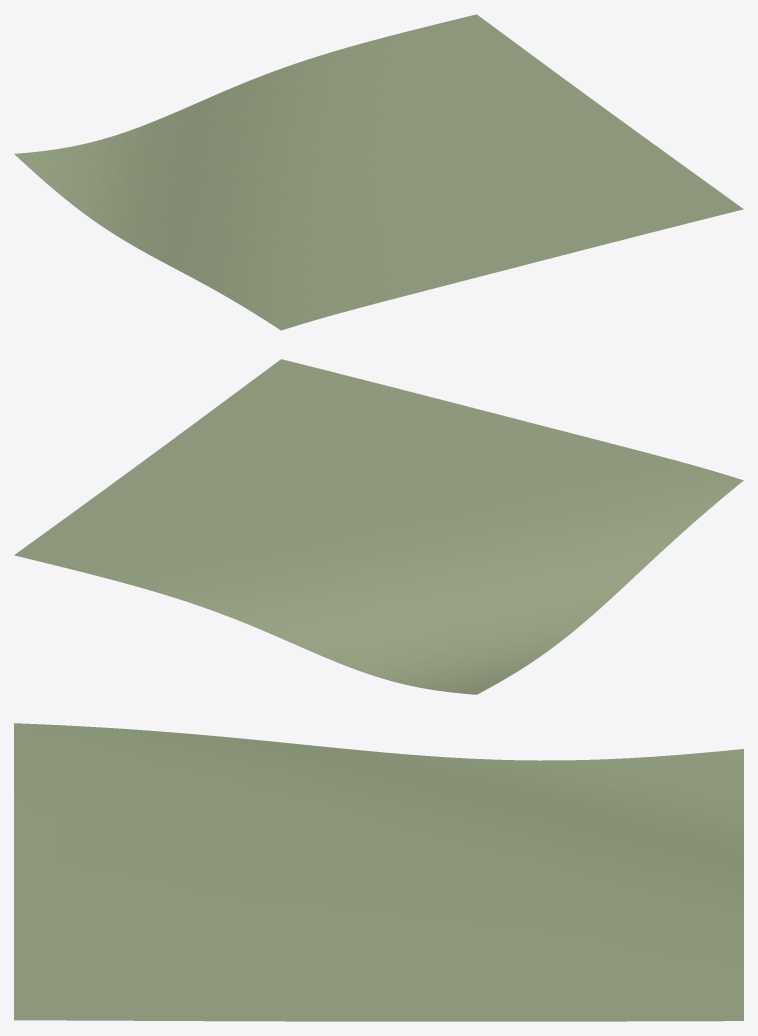
File: desert-12-12.glb
3 renders of one model, top to bottom at view 1: azimuth 30°, elevation 25°; view 2: azimuth 150°, elevation 25°; view 3: azimuth 270°, elevation 25°, orthographic. The views are drawn at different scales.
Visible parts, largest first — view 1: desert-12-12; view 2: desert-12-12; view 3: desert-12-12.
Boxes of the visible parts, <box> form: desert-12-12: <box>14,14,743,330</box>; desert-12-12: <box>14,359,743,694</box>; desert-12-12: <box>14,723,743,1021</box>.
Bounding box in the file's own units: 512 × 37.74 × 512.
